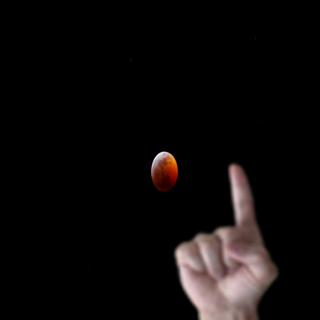IRRITATED: (169, 161, 278, 310)
